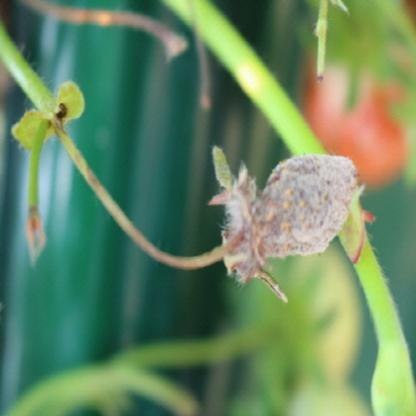Strawberry_Gray_Mold: (207, 154, 360, 305)
